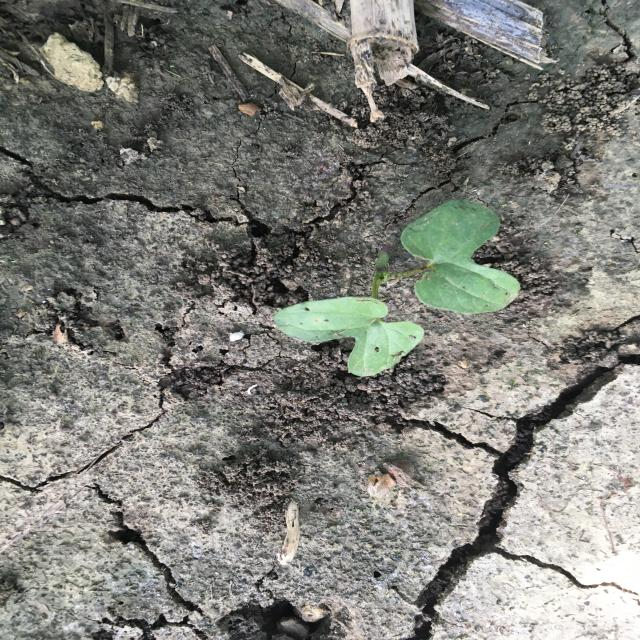MorningGlory: (272, 196, 523, 378)
